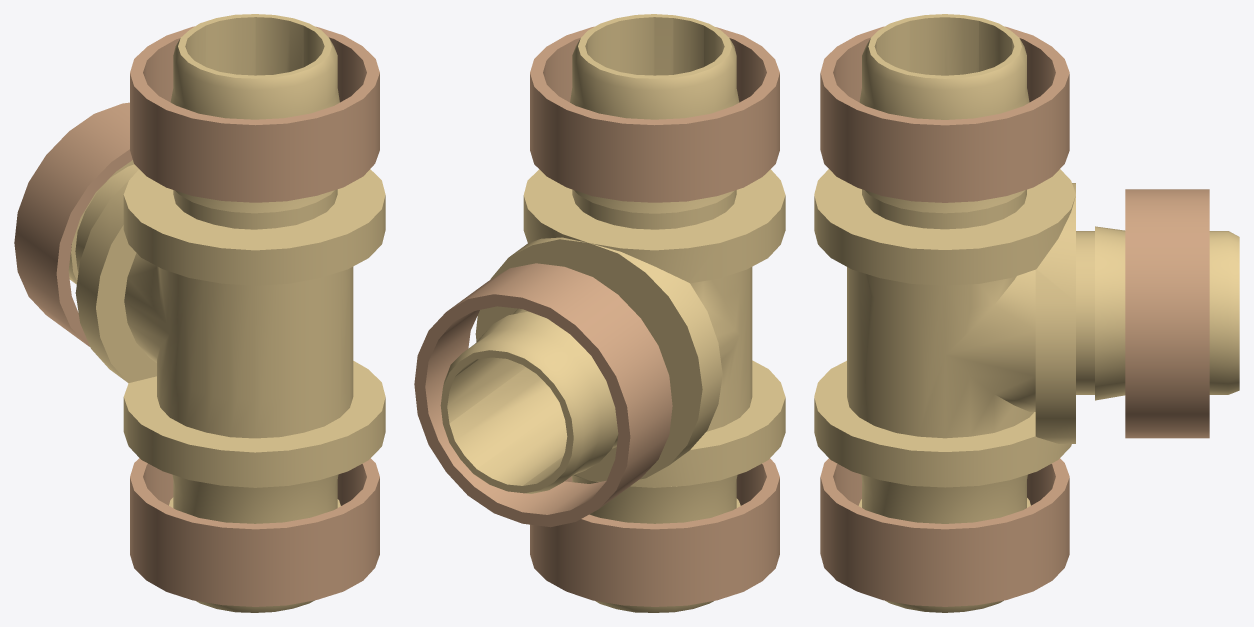
The model's file is slab_pipes_supply__water_heater-closet_electric_tank+closet_gas_tank_and_plumbing-pex_branch.glb.
The picture shows the model from 3 angles, left to right: view 1: azimuth 30°, elevation 25°; view 2: azimuth 150°, elevation 25°; view 3: azimuth 270°, elevation 25°; orthographic projection.
Visible parts, largest first — view 1: fit_tee_pipe_supply_tb_cold_wh_closet; view 2: fit_tee_pipe_supply_tb_cold_wh_closet; view 3: fit_tee_pipe_supply_tb_cold_wh_closet.
Part boxes in pixels (x1,y1,x2,y2): fit_tee_pipe_supply_tb_cold_wh_closet: (14,14,385,612); fit_tee_pipe_supply_tb_cold_wh_closet: (414,14,785,612); fit_tee_pipe_supply_tb_cold_wh_closet: (814,14,1239,612).
Bounding box in the file's own units: 0.0254 × 0.0571 × 0.0413.
